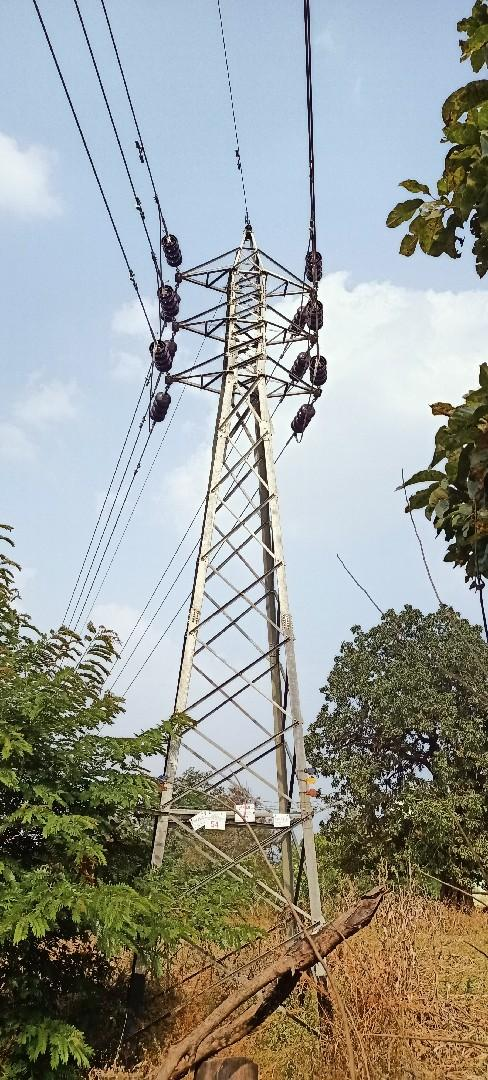GSM Antenna: (163, 223, 336, 705)
